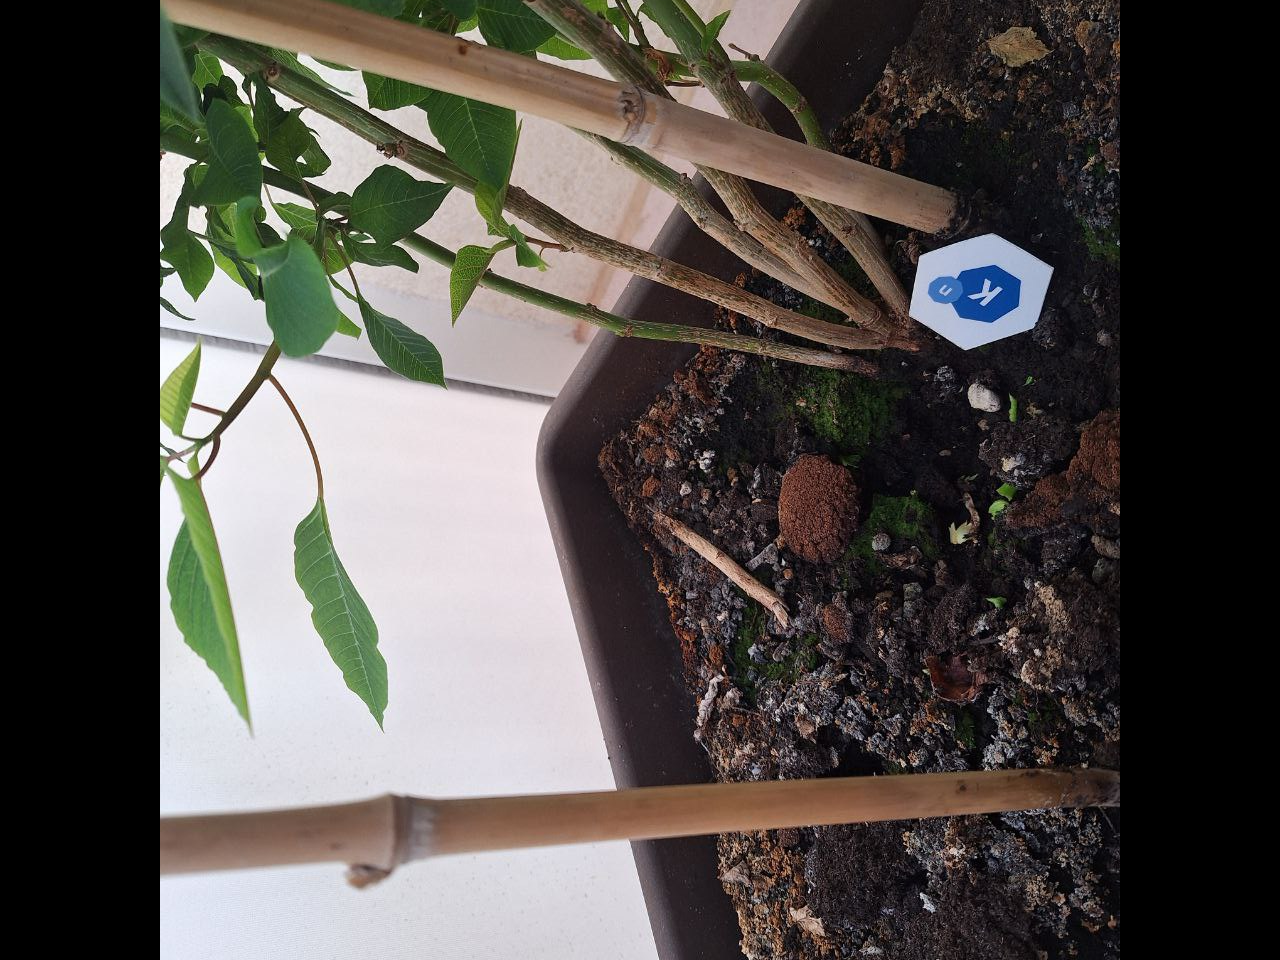knative: (931, 263, 1019, 323)
